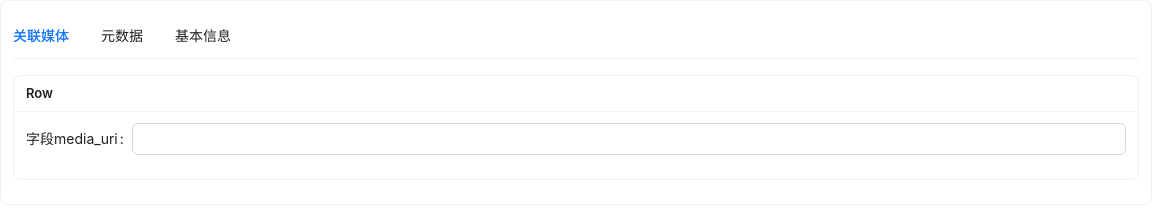
Scenario: ModelFormRenderer（模型驱动表单渲染器） › 页签组之外的根级字段渲染为末页「基本信息」（第三个页签，字段不再丢失）
Check: the tab "关联媒体" is shown, box x1=13 y1=25 x2=69 y2=47
Check: the tab "元数据" is shown, box x1=101 y1=25 x2=143 y2=47
# 第三个页签可点开，标题字段在其中渲染
Step 1. Click the text "基本信息" → x=203, y=36, box x1=175 y1=27 x2=231 y2=44
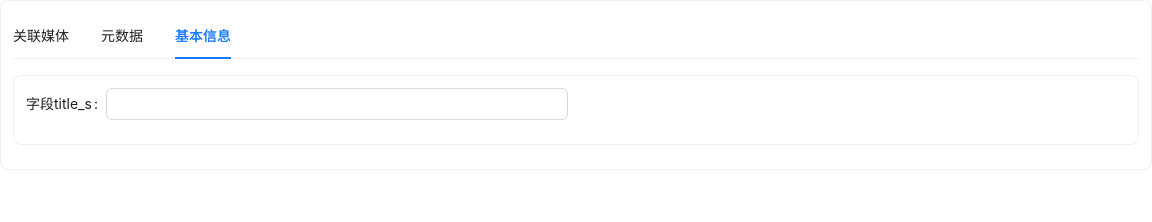
Check: the text "字段title_s" is shown, box x1=26 y1=88 x2=106 y2=120
